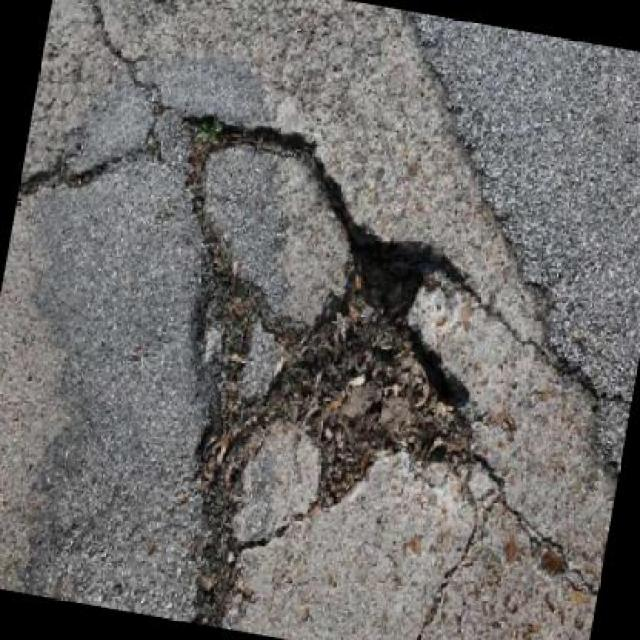pothole1: (107, 101, 527, 601)
